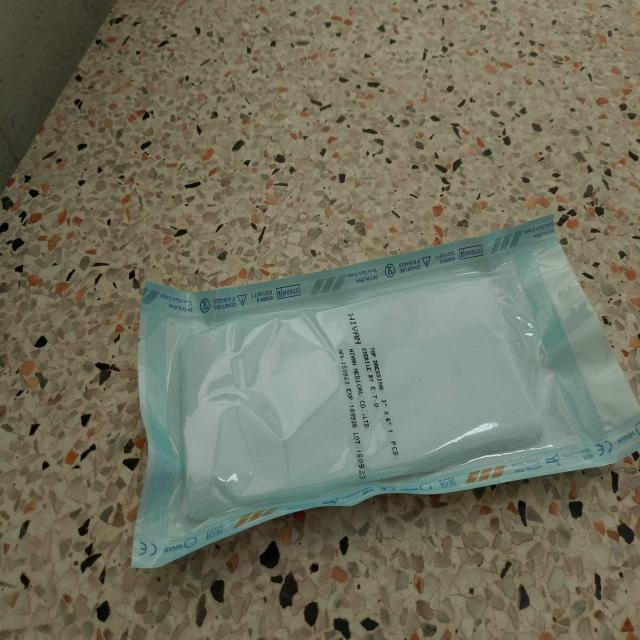Infectious: (131, 213, 639, 569)
